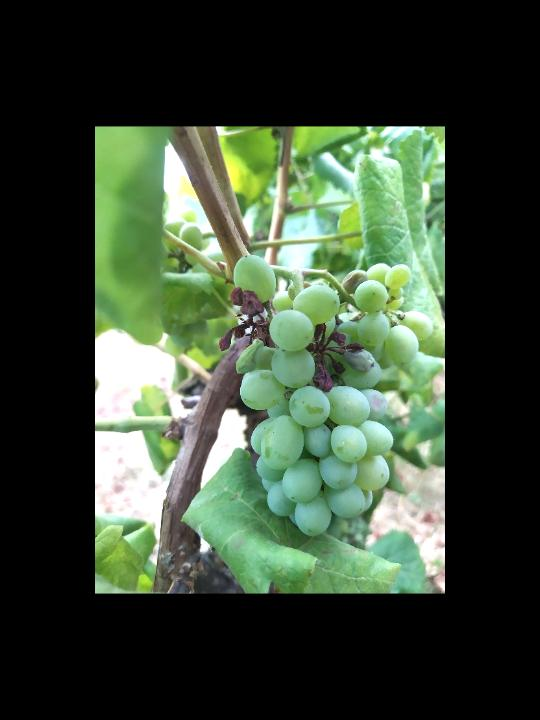grape: (216, 252, 435, 538)
